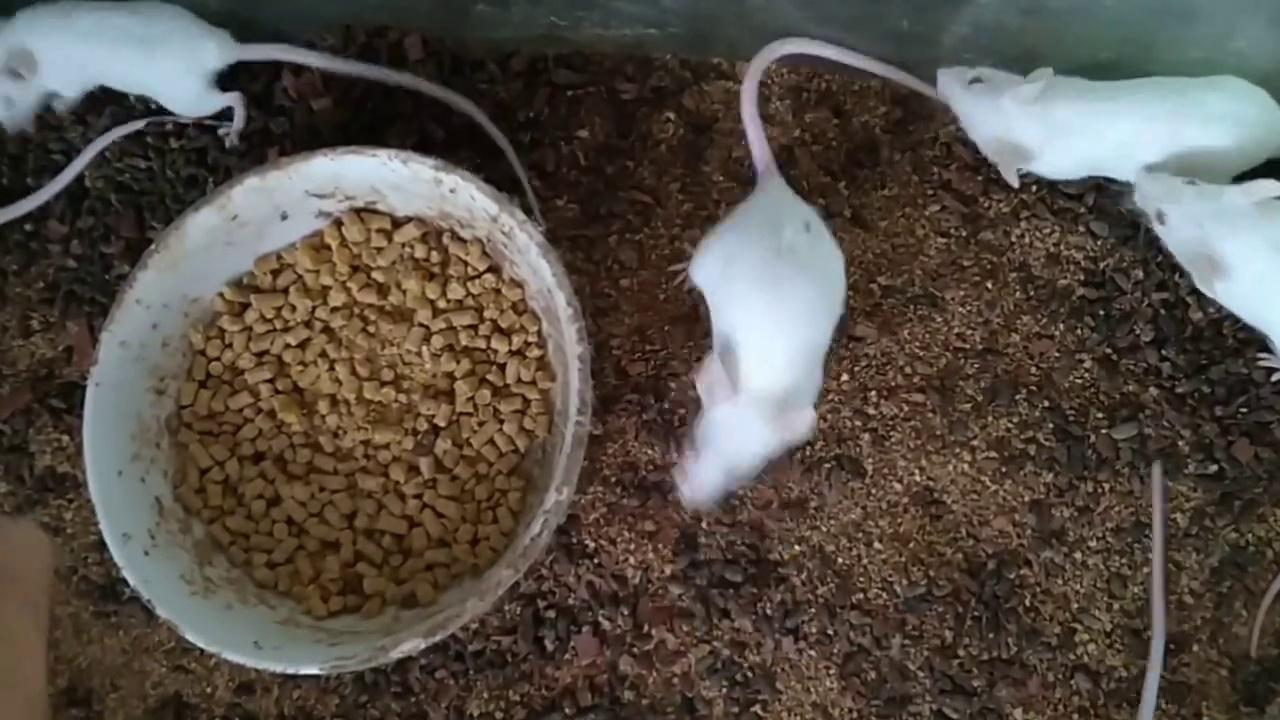mouse: (671, 36, 938, 508), (0, 0, 549, 228), (940, 66, 1280, 183), (1136, 171, 1280, 382)
